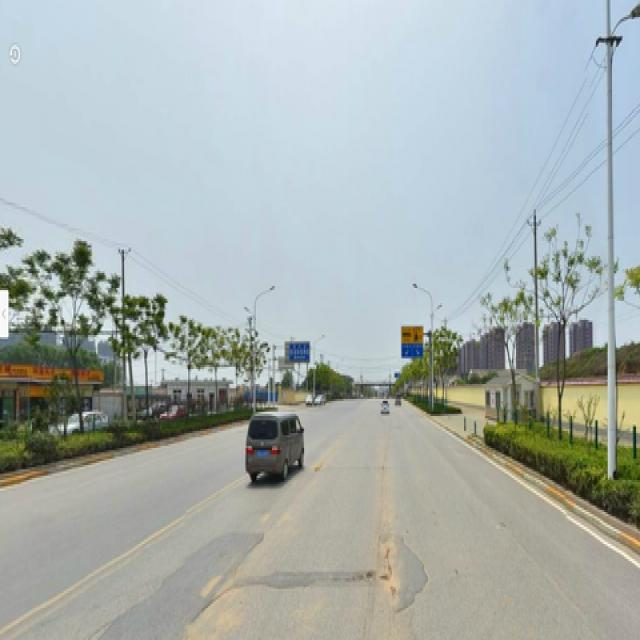koel: (18, 235, 86, 399), (546, 233, 582, 403), (489, 290, 522, 412), (131, 301, 160, 422), (172, 318, 201, 397), (205, 329, 228, 388)
